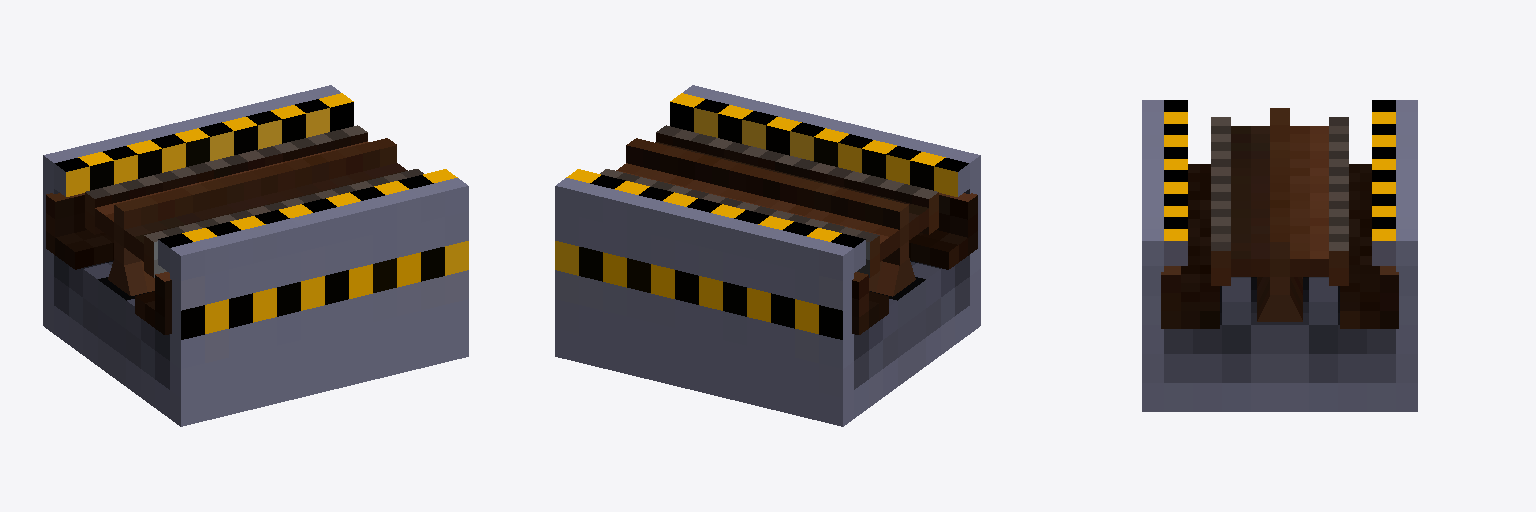
3 renders of one model, left to right at view 1: azimuth 30°, elevation 25°; view 2: azimuth 150°, elevation 25°; view 3: azimuth 270°, elevation 25°, orthographic.
Parts seen in each view (by area): view 1: RAIL_BASE.002, RAIL_BASE, RAIL_LEFT, RAIL_RIGHT; view 2: RAIL_BASE.002, RAIL_BASE, RAIL_RIGHT, RAIL_LEFT; view 3: RAIL_BASE.002, RAIL_BASE, RAIL_LEFT, RAIL_RIGHT.
Part boxes in pixels (x1,y1,x2,y2): RAIL_BASE.002: (43, 85, 468, 426); RAIL_BASE: (85, 125, 423, 295); RAIL_LEFT: (46, 193, 113, 269); RAIL_RIGHT: (135, 272, 171, 334); RAIL_BASE.002: (555, 85, 980, 426); RAIL_BASE: (600, 125, 938, 296); RAIL_RIGHT: (909, 193, 977, 269); RAIL_LEFT: (852, 272, 888, 334); RAIL_BASE.002: (1142, 100, 1417, 411); RAIL_BASE: (1211, 108, 1348, 321); RAIL_LEFT: (1340, 164, 1398, 328); RAIL_RIGHT: (1161, 164, 1219, 328).
Bounding box in the file's own units: 1.1 × 0.598 × 0.8721.
1 materials, 1 textured.